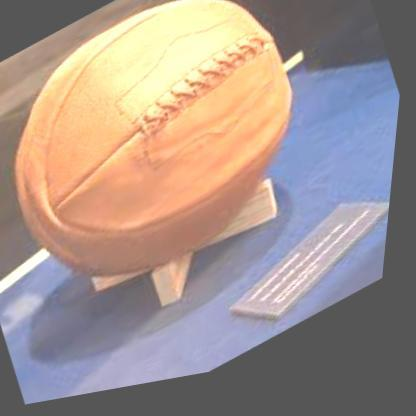basketball: (0, 0, 341, 339)
